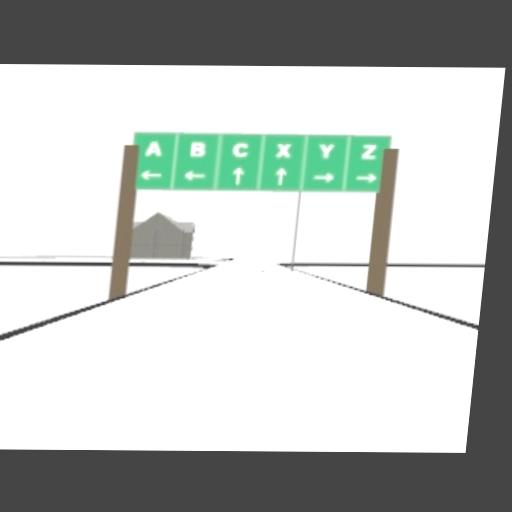A: (144, 140, 164, 158)
B: (189, 140, 209, 157)
C: (231, 140, 250, 158)
Left: (183, 169, 207, 182), (140, 168, 163, 179)
Right: (312, 170, 336, 183), (355, 172, 377, 184)
Straight: (274, 166, 289, 186), (231, 165, 245, 185)
X: (318, 142, 335, 159), (275, 142, 292, 157)
Z: (361, 142, 379, 160)
